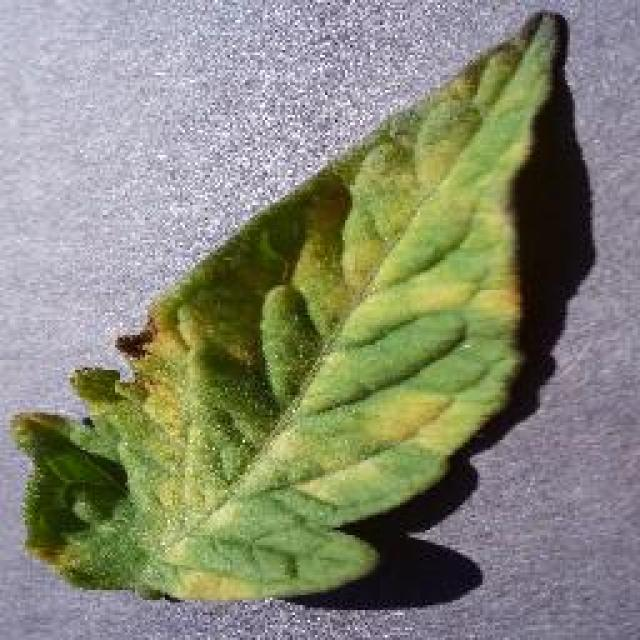Tomato___Leaf_Mold: (10, 12, 555, 598)
